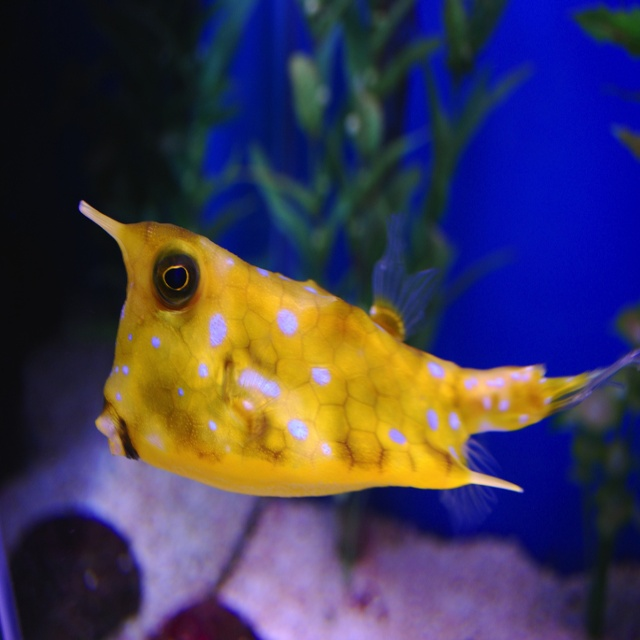Fish: (79, 200, 640, 497)
